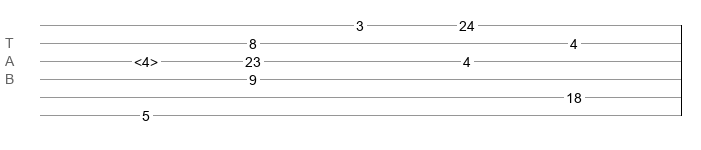18: (566, 90, 582, 100)
23: (245, 54, 261, 64)
24: (459, 18, 475, 28)
3: (356, 18, 364, 28)
4: (463, 54, 471, 64), (570, 36, 578, 46)
5: (142, 108, 150, 118)
8: (249, 36, 257, 46)
9: (249, 72, 257, 82)
harmonic: (134, 54, 158, 64)
